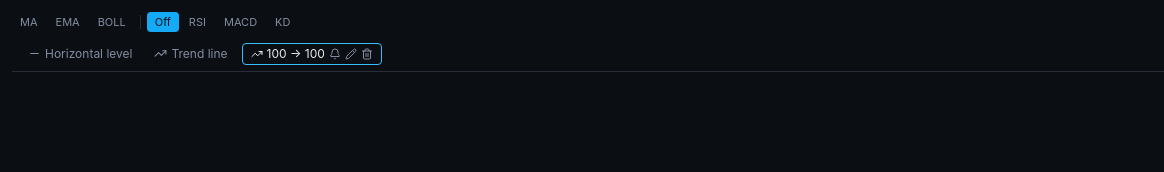
Test: CandlestickChart indicators › creates a dynamic alert in the next crossing direction for a trend line
Click the button named "Create dynamic trend crossing alert": (335, 54) [329,48,341,60]
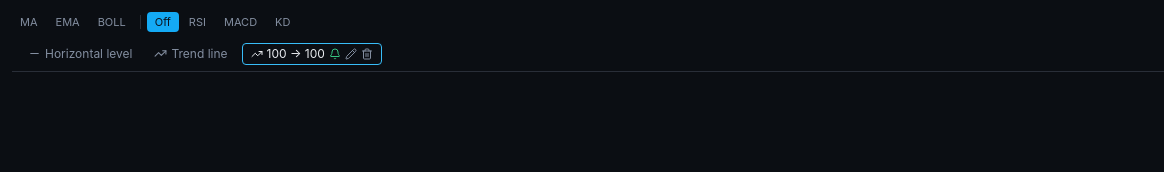
Now the button named "Alert created" is disabled, box [329,48,341,60]
